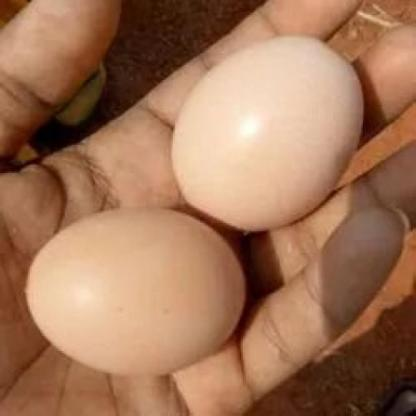egg: (160, 13, 384, 243), (10, 204, 256, 388)
